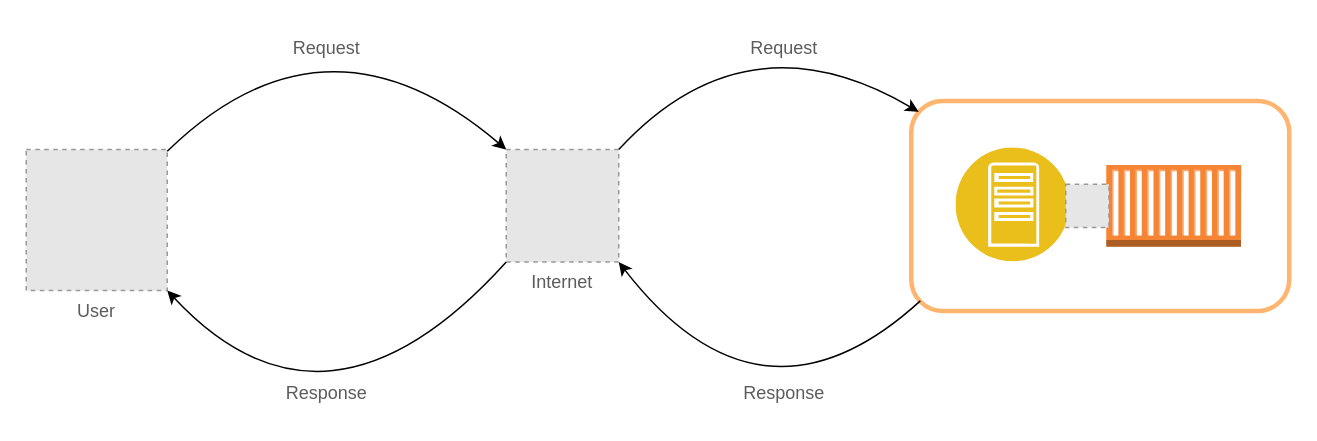
Image size: 1317x441. Some labels were removed from this diagram. Grey dashed boxes stand in for pictures. Each missing label, with the centre of its shape:
"Web container" belongs at pixel 1173 205.
"Web server" belongs at pixel 1013 204.
